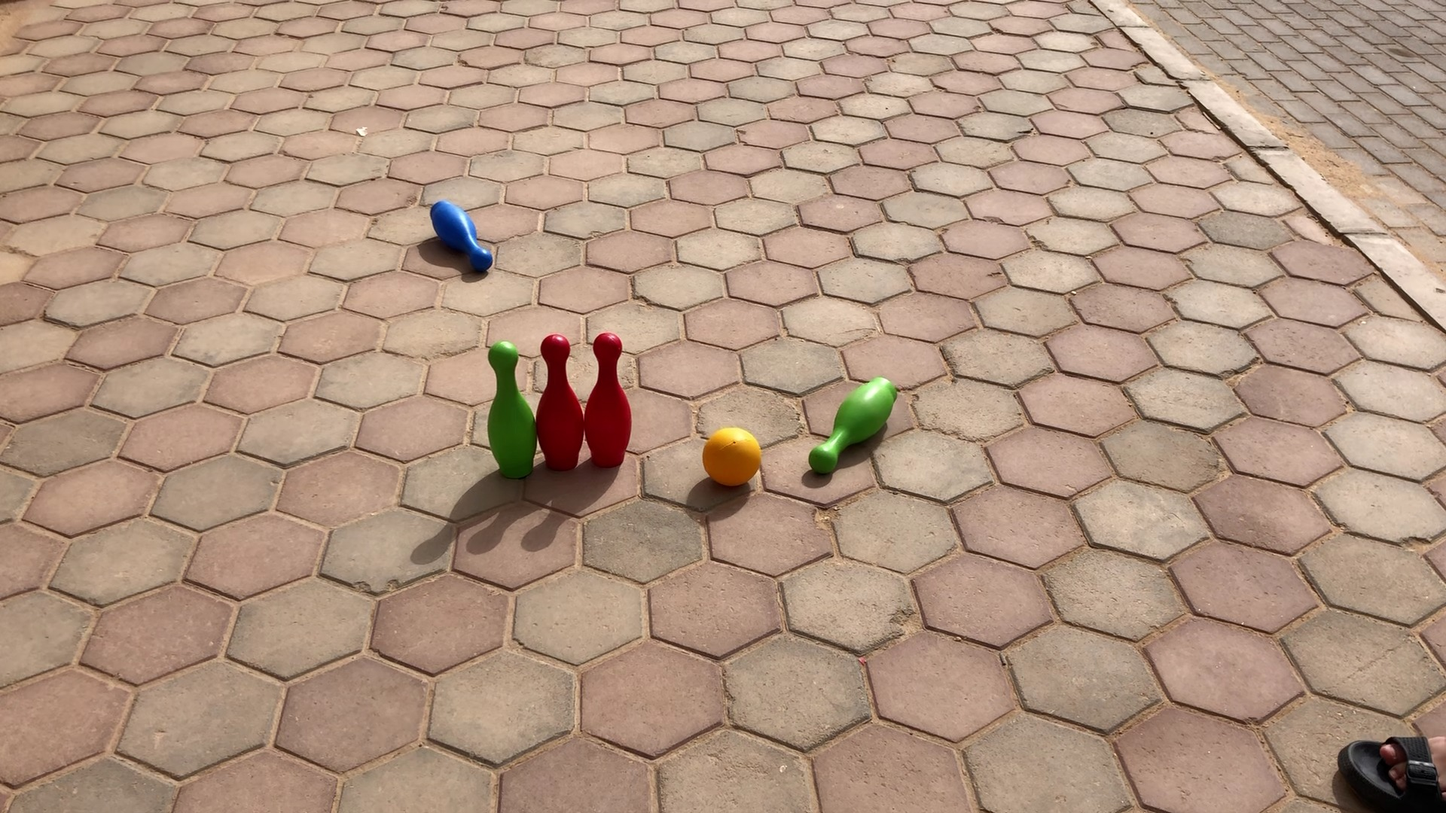pin: (809, 379, 892, 474), (578, 331, 628, 468), (487, 341, 535, 477), (535, 333, 582, 470), (432, 199, 496, 270)
